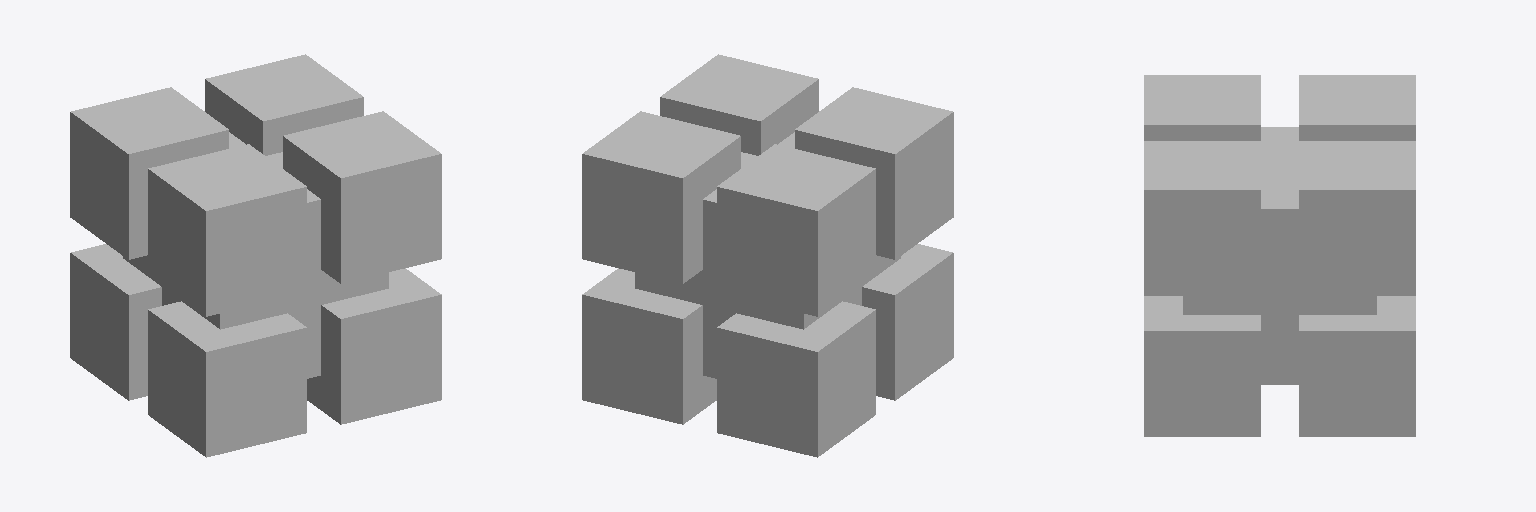
The model's file is block.obj.
3 renders of one model, left to right at view 1: azimuth 30°, elevation 25°; view 2: azimuth 150°, elevation 25°; view 3: azimuth 270°, elevation 25°, orthographic.
Parts seen in each view (by area): view 1: object 1; view 2: object 1; view 3: object 1.
Part boxes in pixels (x1,y1,x2,y2): object 1: (70, 54, 441, 457); object 1: (582, 54, 953, 457); object 1: (1144, 75, 1415, 436).
Bounding box in the file's own units: 0.7 × 0.7 × 0.7.